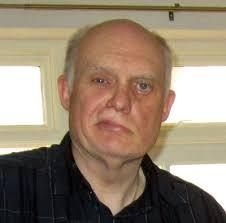strokeEyeSevere: (84, 62, 160, 98)
strokeMouthMid: (92, 115, 139, 140)
